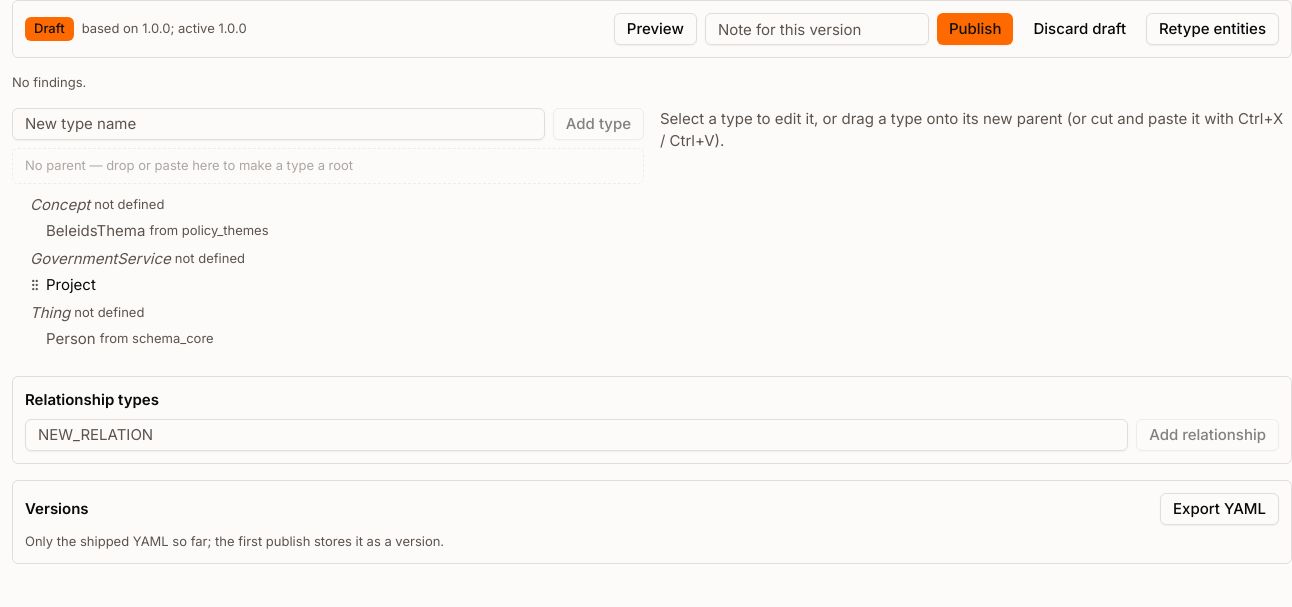
Test case: OntologyEditor › refuses to "add" a type that exists (review M1)
Check: the element with test id "ontology-type-Project" is shown, box x1=28 y1=274 x2=96 y2=296
Type "project" into the field labelled "New type name".
click(278, 124); type("project")  # box x1=12 y1=108 x2=545 y2=140
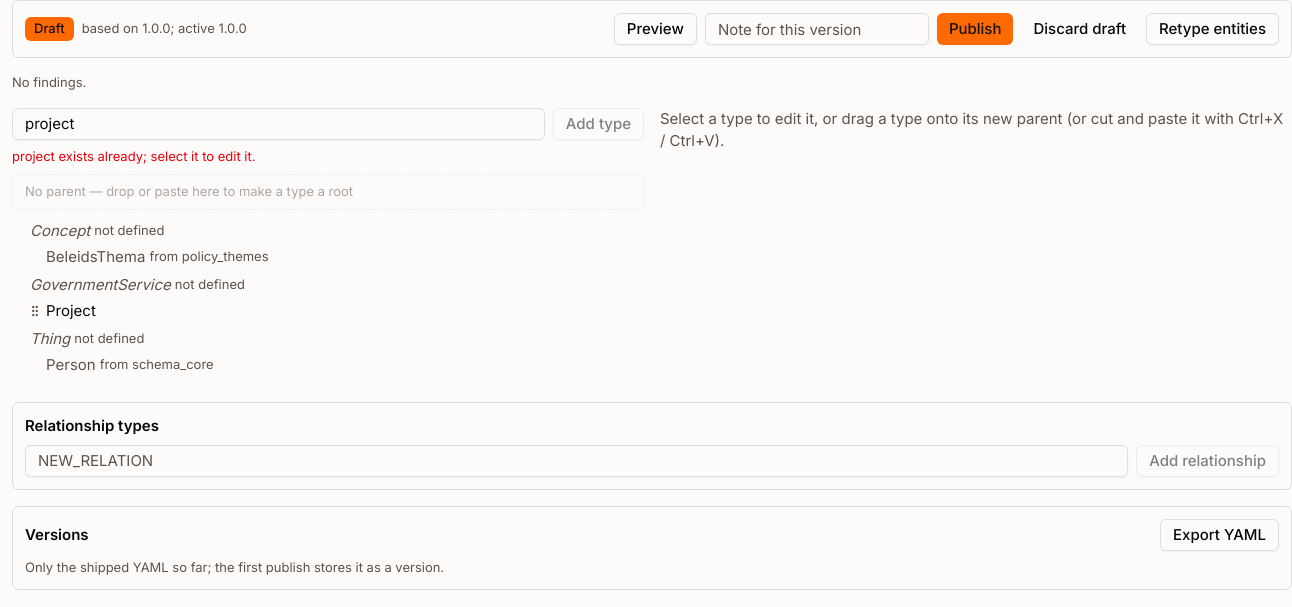
Check: the button with test id "ontology-add-type" is disabled, box x1=553 y1=108 x2=644 y2=140
Check: the text "project exists already; select it to edit it." is shown, box x1=12 y1=148 x2=256 y2=164
